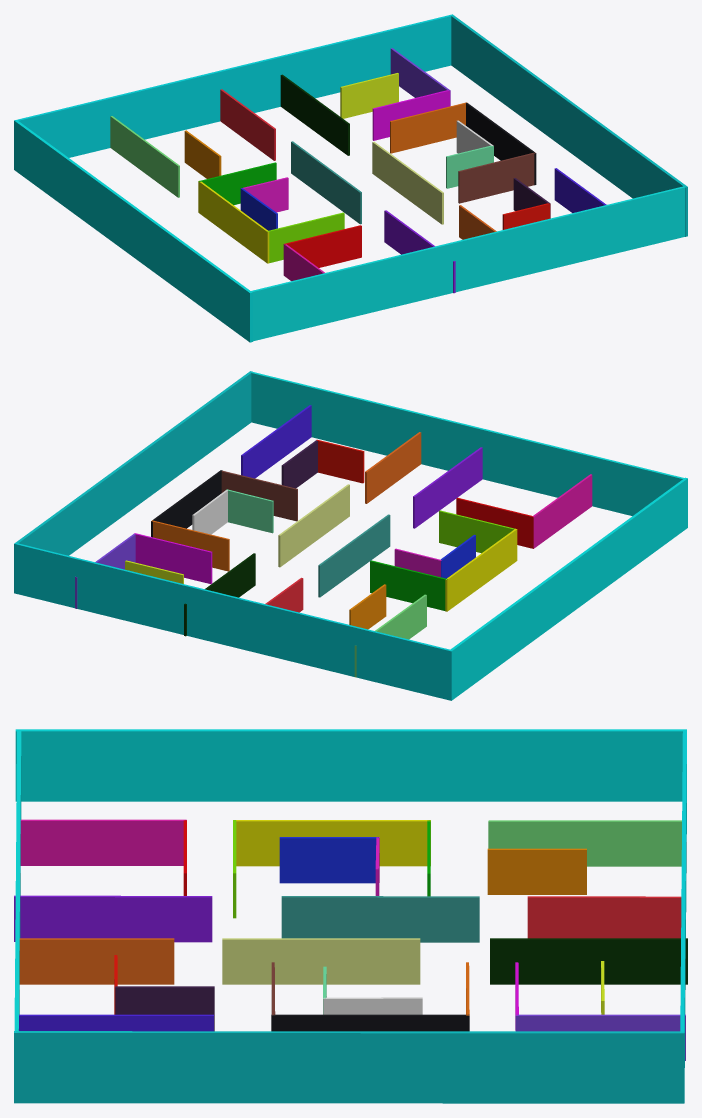
File: map.glb
3 renders of one model, top to bottom at view 1: azimuth 30°, elevation 25°; view 2: azimuth 150°, elevation 25°; view 3: azimuth 270°, elevation 25°, orthographic. The views are drawn at different scales.
Visible parts, largest first — view 1: Cube.003, Cube.001, Cube, Cube.002, Cube.008, Cube.013, Cube.028, Cube.022, Cube.012, Cube.029, Cube.010, Cube.024 (+18 smaller); view 2: Cube.001, Cube.003, Cube, Cube.002, Cube.022, Cube.028, Cube.013, Cube.011, Cube.025, Cube.026, Cube.005, Cube.027 (+18 smaller); view 3: Cube.002, Cube, Cube.013, Cube.010, Cube.022, Cube.025, Cube.027, Cube.029, Cube.018, Cube.004, Cube.028, Cube.021 (+8 smaller).
Part boxes in pixels (x1,y1,x2,y2): Cube.003: (248,186,684,341); Cube.001: (14,14,452,169); Cube: (14,120,252,342); Cube.002: (451,14,687,236); Cube.008: (458,152,535,203); Cube.013: (372,141,443,224); Cube.028: (198,180,269,263); Cube.022: (291,141,361,224); Cube.012: (390,102,466,153); Cube.029: (110,116,179,197); Cube.010: (280,74,349,155); Cube.024: (284,225,361,267); Cube.001: (14,543,451,700); Cube.003: (251,372,684,515); Cube: (449,477,687,700); Cube.002: (14,371,252,592); Cube.022: (318,514,390,597); Cube.028: (445,528,517,611); Cube.013: (278,484,349,567); Cube.011: (134,533,212,583); Cube.025: (413,447,482,528); Cube.026: (370,560,447,610); Cube.005: (241,405,311,478); Cube.027: (532,474,592,548); Cube.002: (14,1031,684,1103); Cube: (15,729,685,801); Cube.013: (222,938,420,984); Cube.010: (490,938,687,984); Cube.022: (281,896,479,942); Cube.025: (14,895,212,942); Cube.027: (20,819,186,865); Cube.029: (488,820,681,866); Cube.018: (19,938,174,984); Cube.004: (527,896,681,938); Cube.028: (236,820,430,866); Cube.021: (487,848,586,894).
Bounding box in the file's own units: 64.6 × 6.97 × 60.56.
